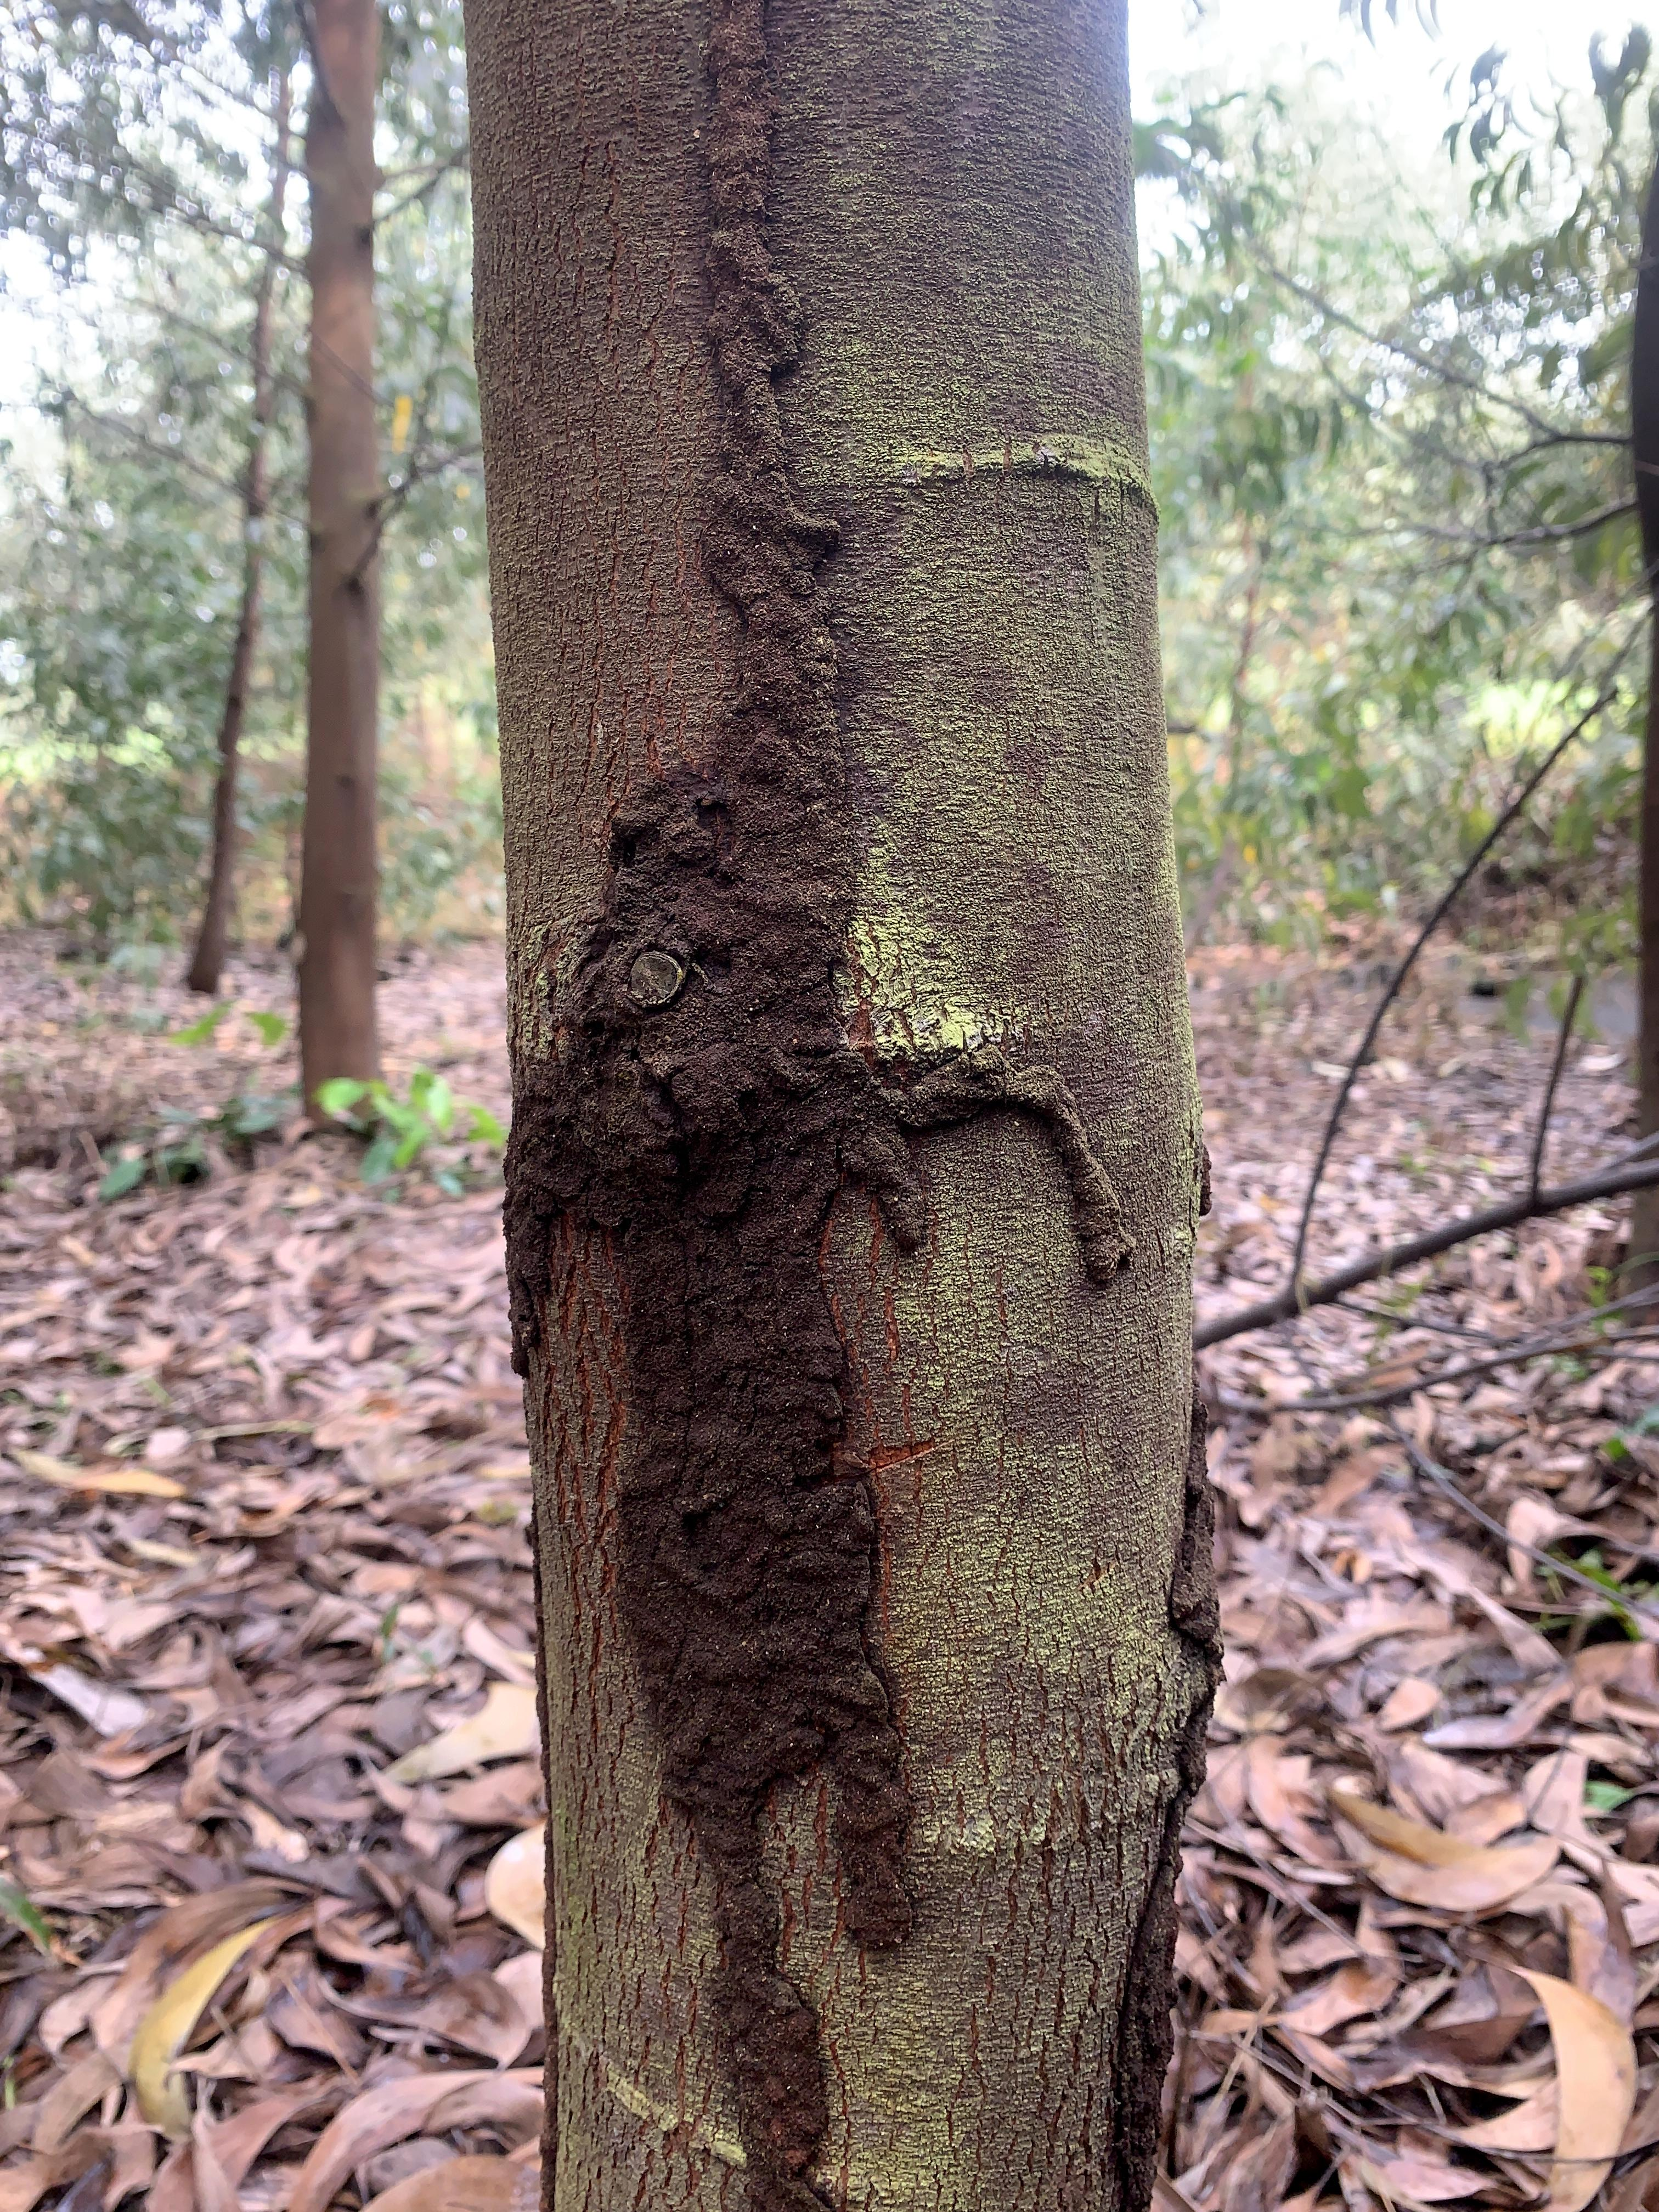Termite - Nest: (457, 0, 924, 2212), (1110, 1686, 1218, 2212)
